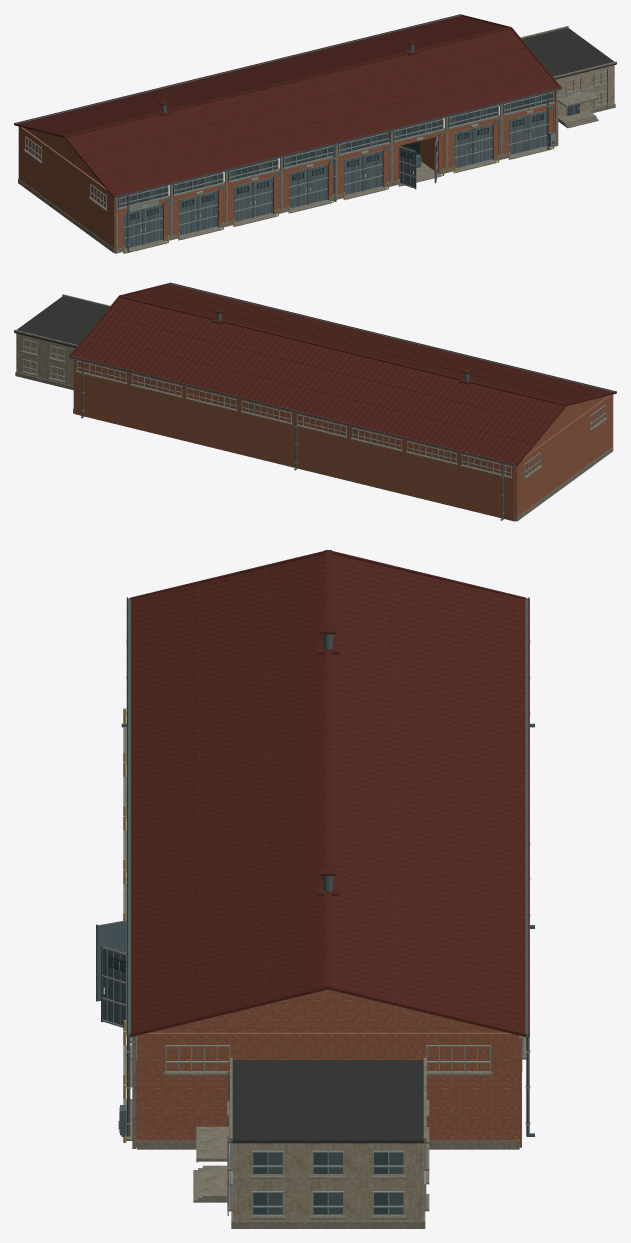
File: atp_hall.glb
3 renders of one model, top to bottom at view 1: azimuth 30°, elevation 25°; view 2: azimuth 150°, elevation 25°; view 3: azimuth 270°, elevation 25°, orthographic. The views are drawn at different scales.
Visible parts, largest first — view 1: atp_hall; view 2: atp_hall; view 3: atp_hall.
Part boxes in pixels (box(x1,y1,x2,y2)): atp_hall: box(14, 14, 616, 253); atp_hall: box(14, 282, 616, 521); atp_hall: box(96, 550, 534, 1228).
Bounding box in the file's own units: 76.92 × 12.74 × 27.61.
Materials: 14 (6 with a texture image).
